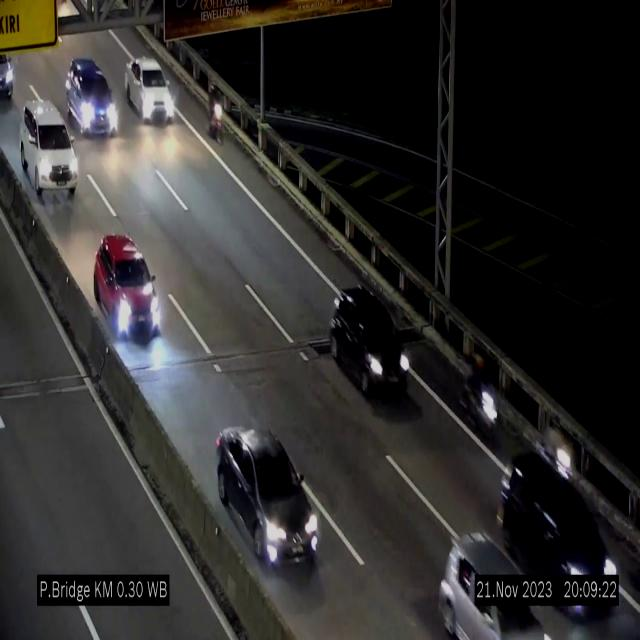Car: (492, 446, 626, 628), (215, 426, 319, 575), (424, 528, 550, 640), (332, 285, 412, 403), (94, 232, 164, 344), (16, 92, 80, 198), (65, 60, 119, 135), (124, 57, 176, 123), (0, 44, 24, 96)
Motorcycle: (462, 350, 497, 450), (543, 409, 581, 499), (204, 78, 230, 148)
